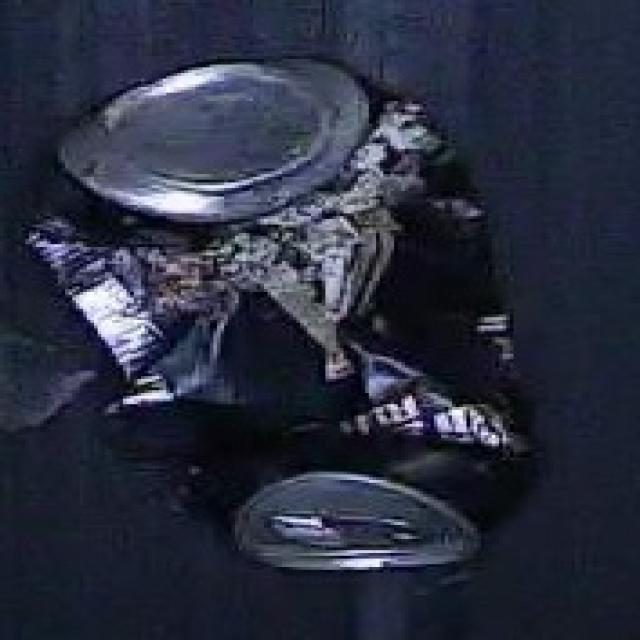can: (37, 61, 546, 576)
